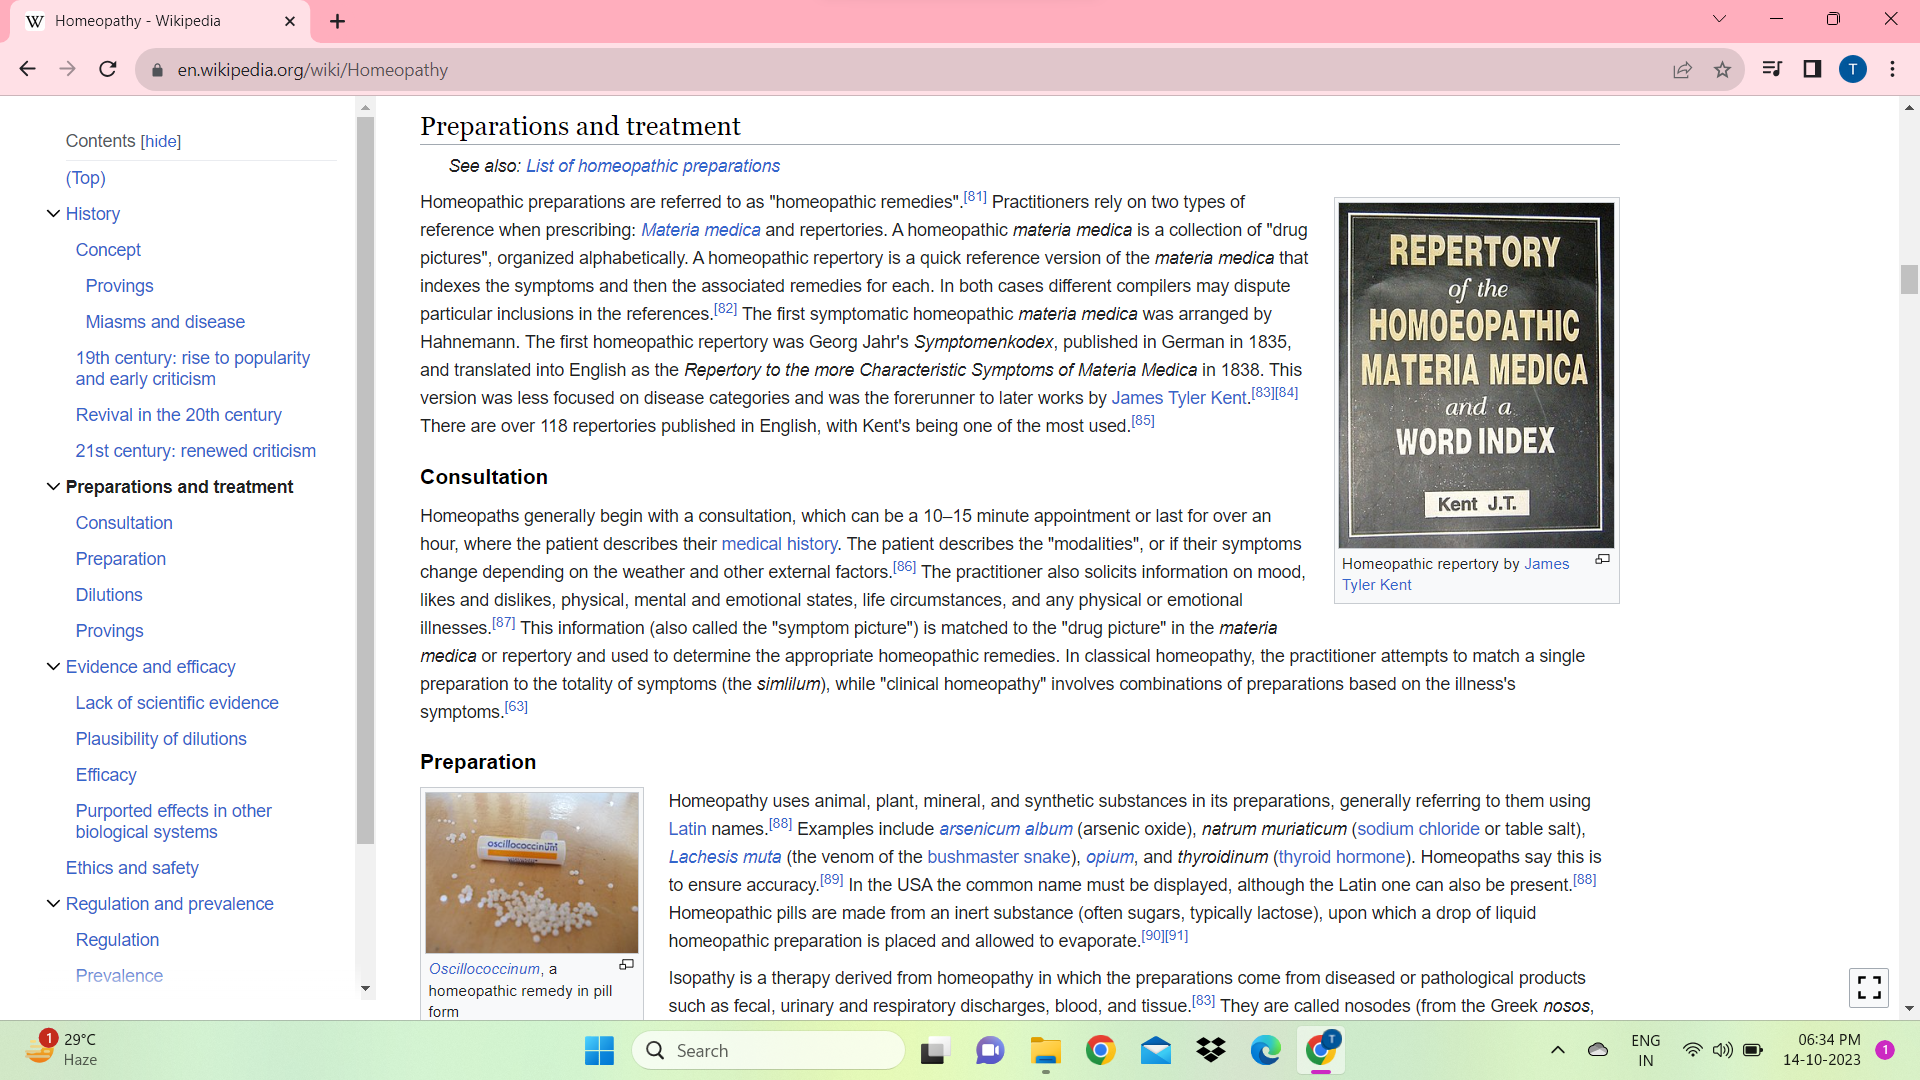Image: (1329, 181, 1621, 550), (417, 781, 645, 953)
Paragraph: (411, 505, 1601, 727), (414, 193, 1324, 447), (662, 779, 1605, 953), (654, 969, 1607, 1014), (404, 102, 756, 142), (69, 345, 316, 393), (444, 146, 785, 181), (61, 796, 282, 844), (62, 471, 298, 502), (75, 397, 287, 430), (75, 688, 282, 715), (61, 889, 276, 913), (75, 440, 316, 462), (84, 305, 248, 332), (65, 654, 248, 678), (407, 746, 550, 777), (67, 727, 248, 750), (414, 465, 559, 495), (61, 123, 187, 153), (58, 858, 204, 878), (69, 613, 153, 644), (74, 509, 170, 535), (75, 927, 169, 953), (65, 549, 173, 570), (67, 578, 149, 604), (54, 164, 123, 193), (74, 237, 149, 264), (71, 761, 142, 787), (80, 272, 156, 295), (62, 203, 129, 223)
